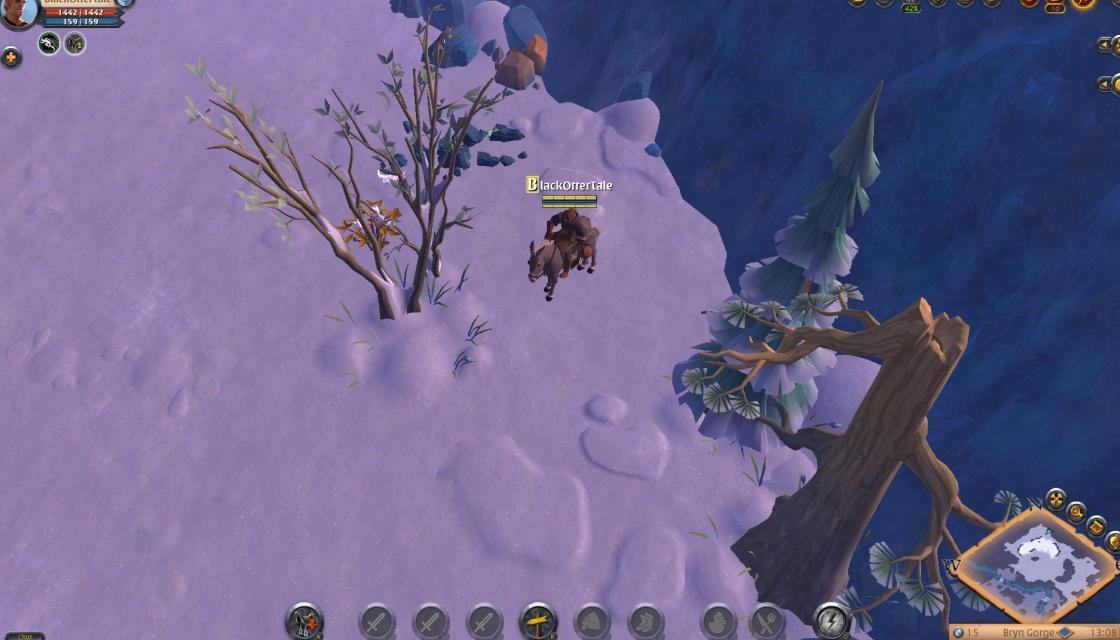limestone: (487, 34, 549, 89)
